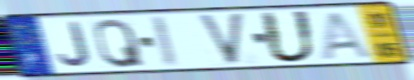A: (319, 10, 377, 60)
I: (148, 14, 180, 69)
J: (56, 20, 93, 69)
Q: (92, 17, 147, 70)
U: (258, 10, 320, 66)
V: (195, 11, 246, 67)
